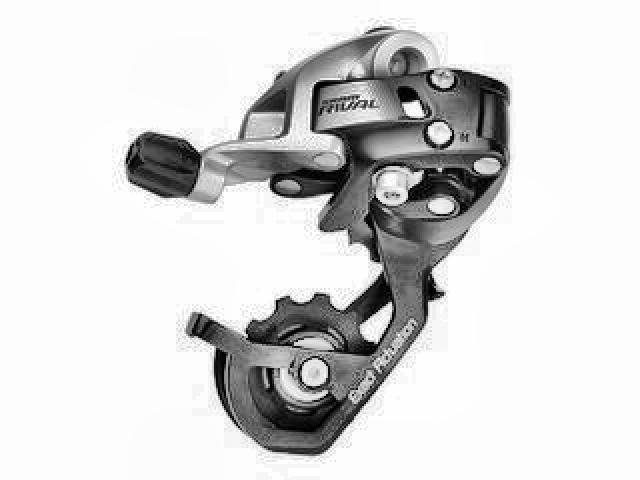rear_derailleur: (121, 27, 512, 458)
